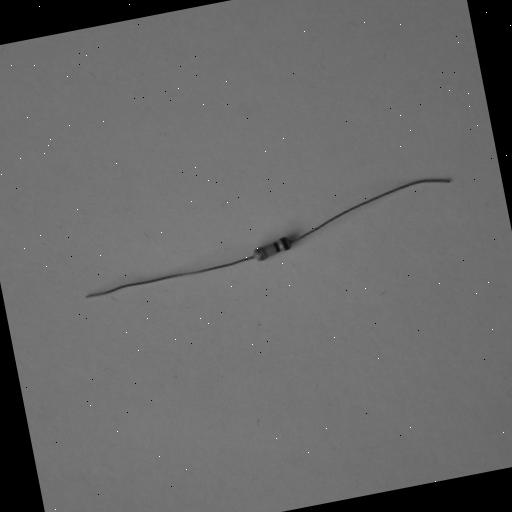RESISTOR: (152, 162, 360, 330)
